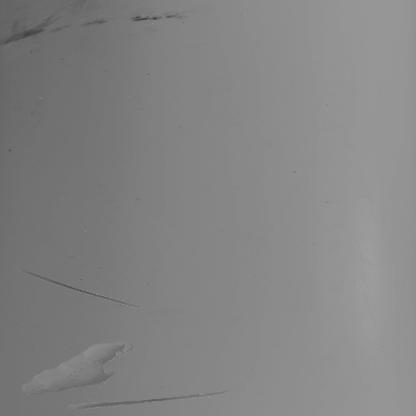sunshang: (20, 343, 126, 394), (22, 270, 142, 310), (69, 388, 225, 409)
